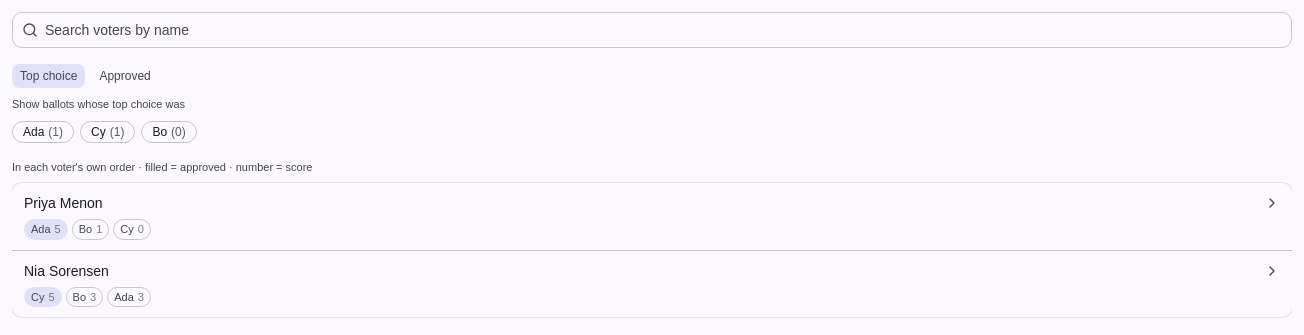
Scenario: BallotPicker filters › filters by candidate and clears when the chip is pressed again
The image size is (1304, 335).
Click the button with aria-label "Ada," at (43, 132), box left=12, top=120, right=74, bottom=142
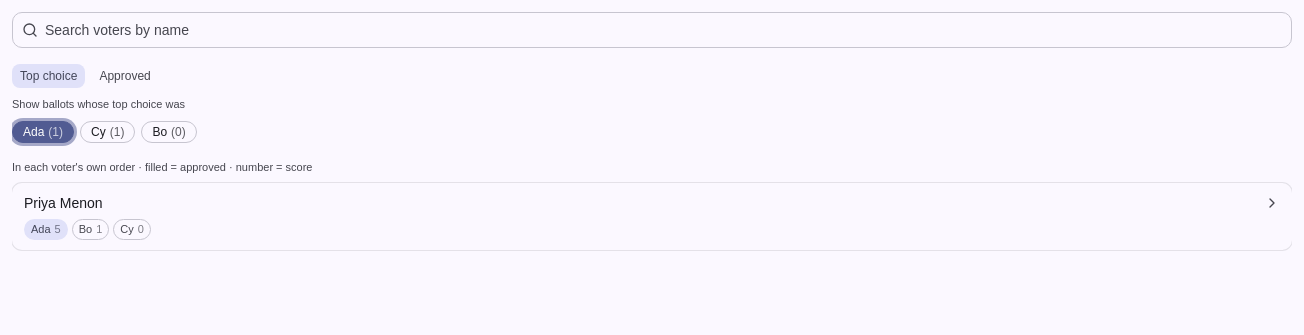
Result: the button "Nia Sorensen" is gone
Click the button with aria-label "Ada," at (43, 132), box left=12, top=120, right=74, bottom=142
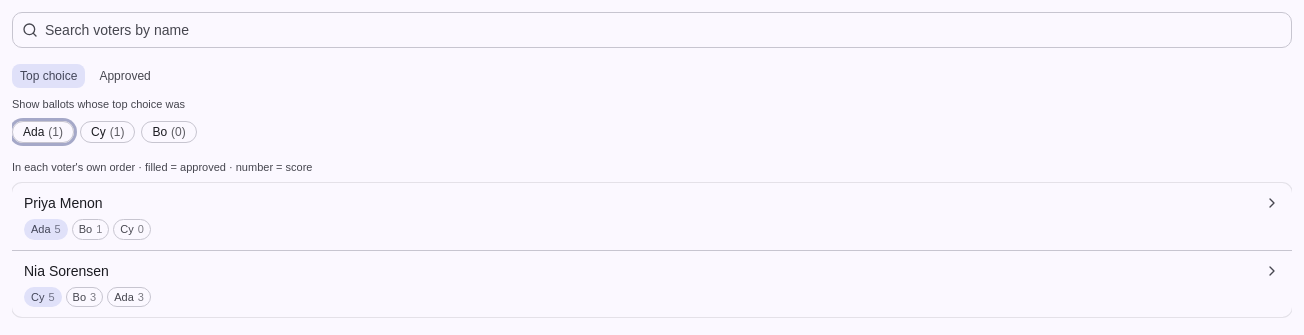
Result: the button "Nia Sorensen" is shown at left=24, top=260, right=1256, bottom=280
